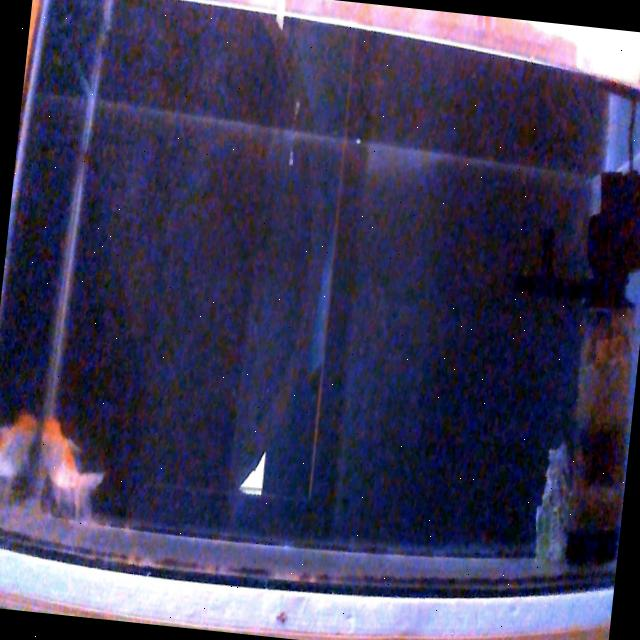fish: (38, 417, 100, 508), (0, 413, 40, 480)
